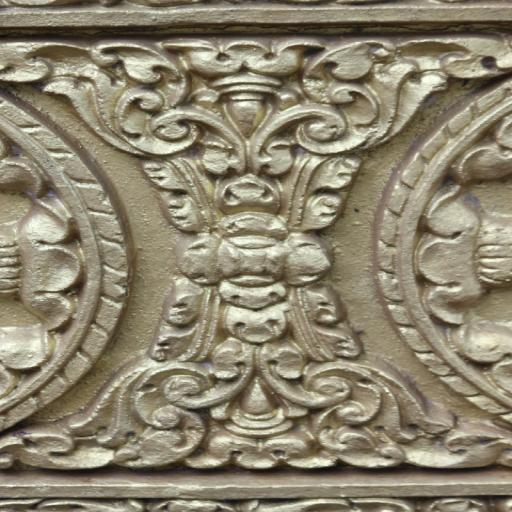la: (16, 39, 506, 260), (21, 256, 512, 475)
